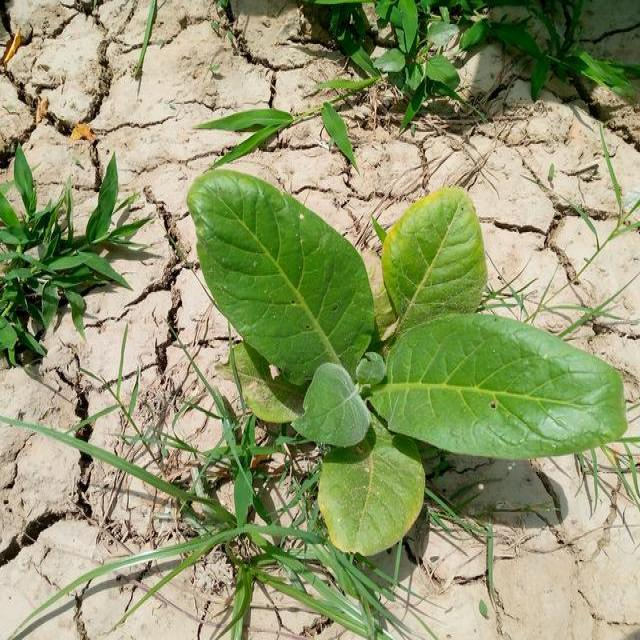crop: (182, 180, 618, 556)
